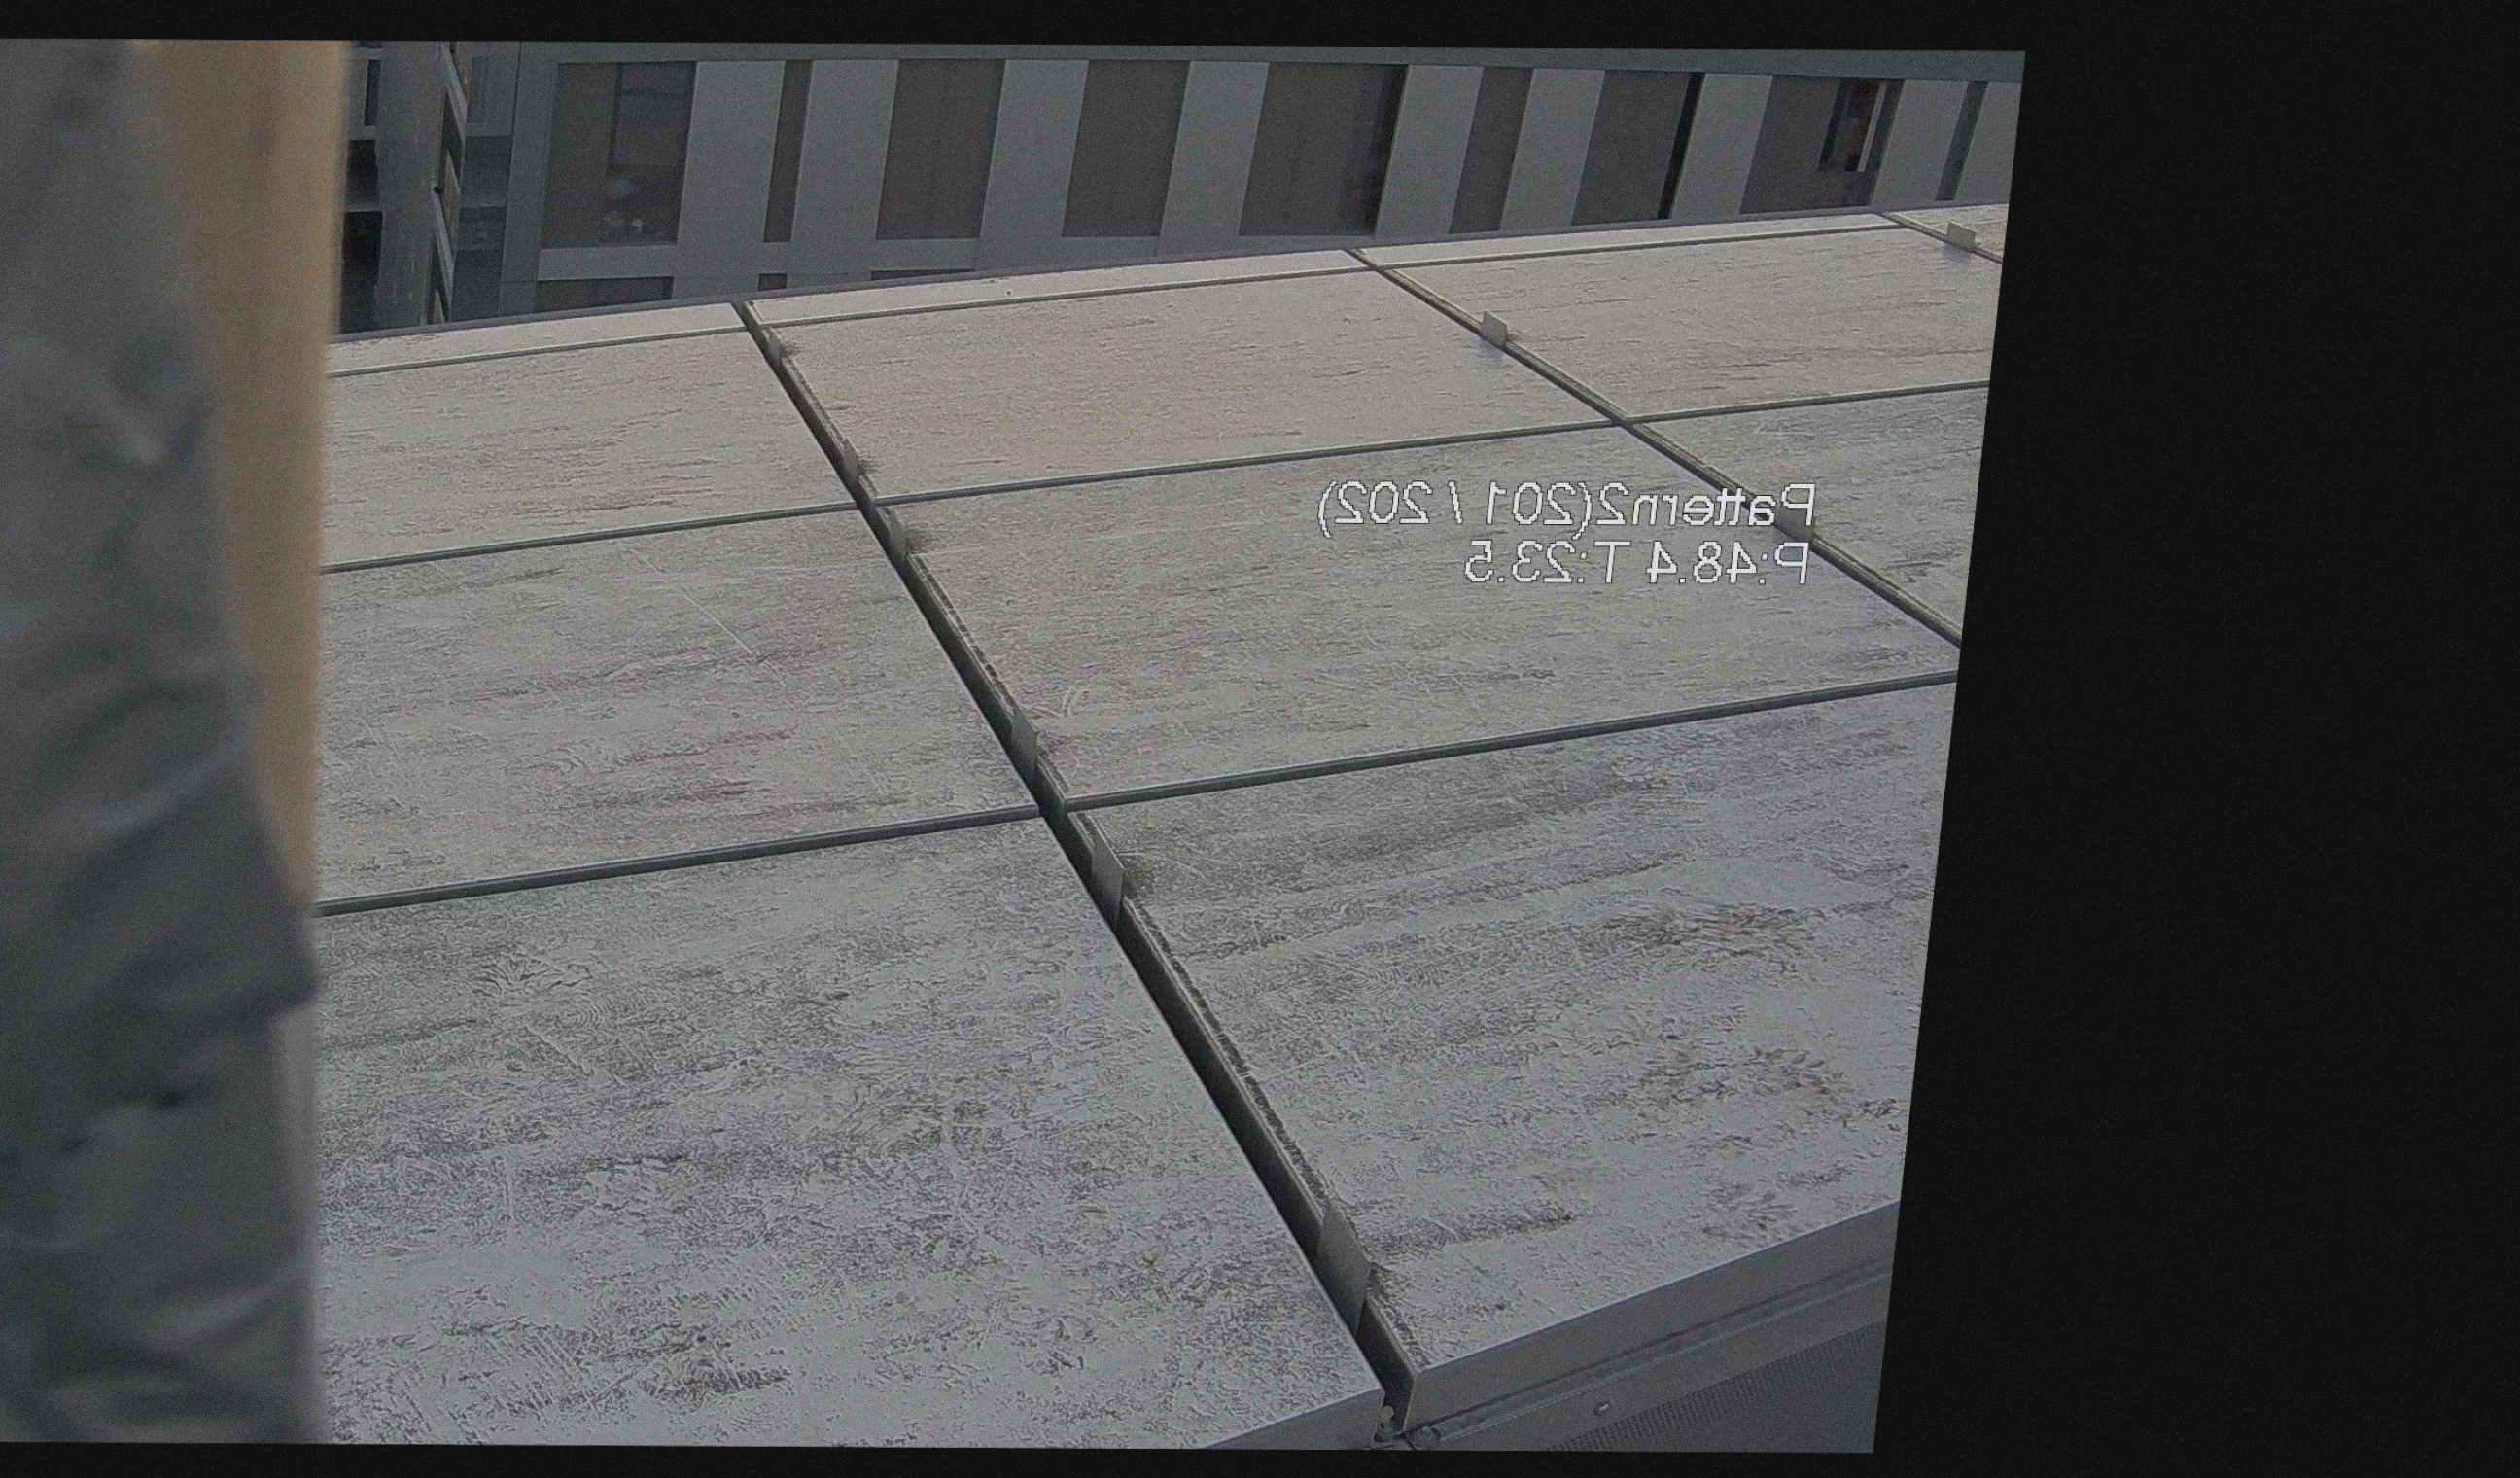Other: (0, 123, 443, 1371)
